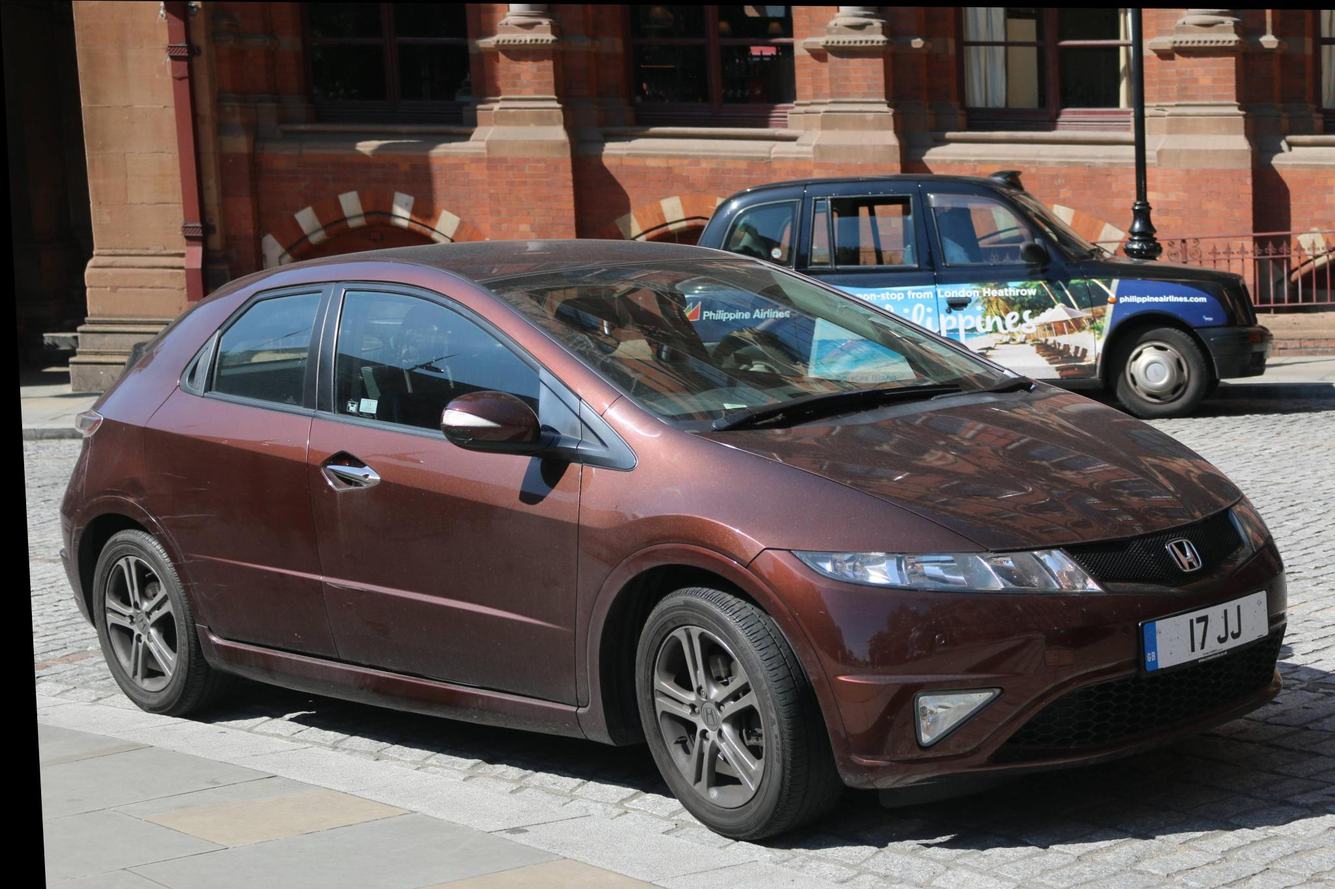License_Plate: (1127, 577, 1291, 686)
